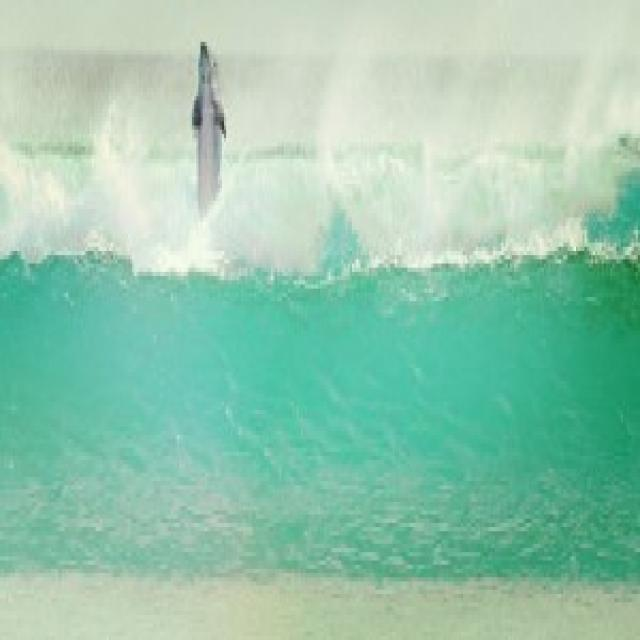Dolphin: (186, 39, 229, 250)
